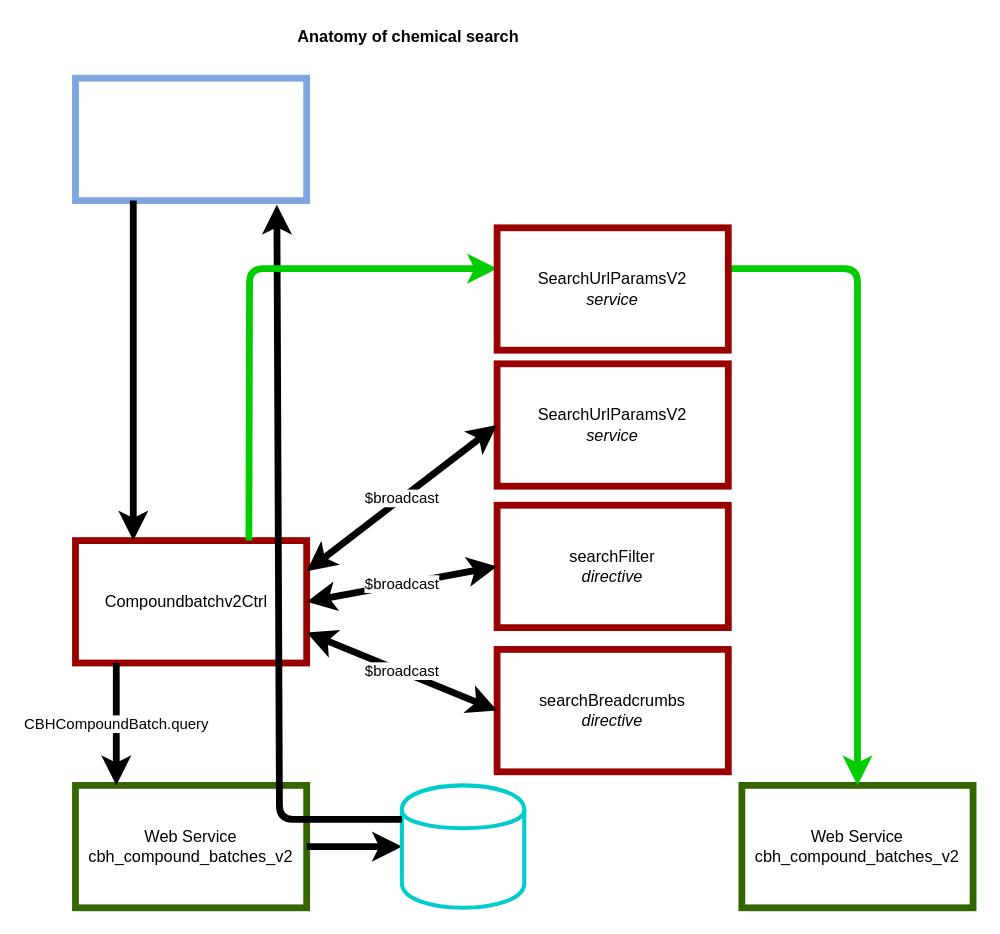
The diagram is 1000 pixels wide and 934 high, and some of its shapes have lost their labels. Here are the shapes that lost their labels. From the top down, the box of each, then its label:
(71, 74, 309, 203): /search
(399, 783, 526, 909): elasticsearch index
